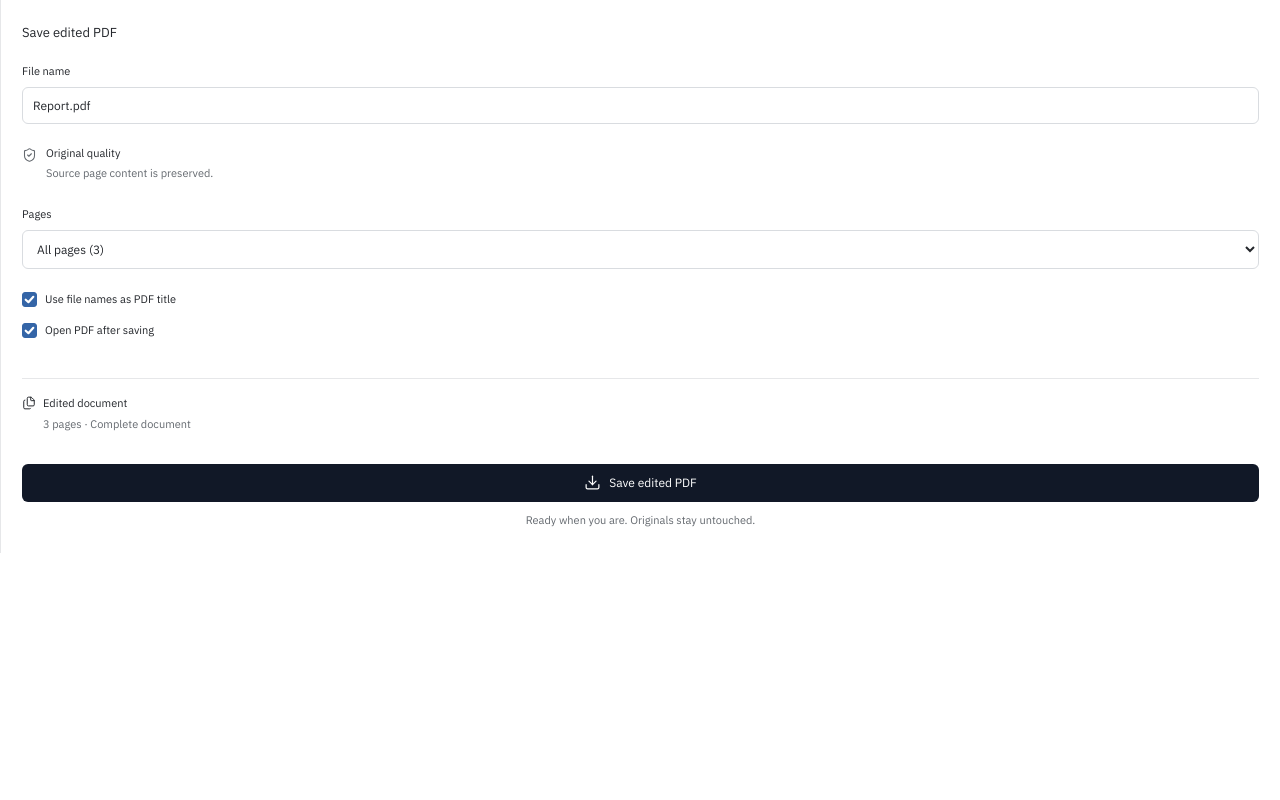
it: OutputInspector › Custom focuses the range input and validates it inline
The width and height of the screenshot is (1280, 800).
Select "Custom range…" in the dropdown labelled "Pages". click: (640, 249)
box: [22, 230, 1259, 269]
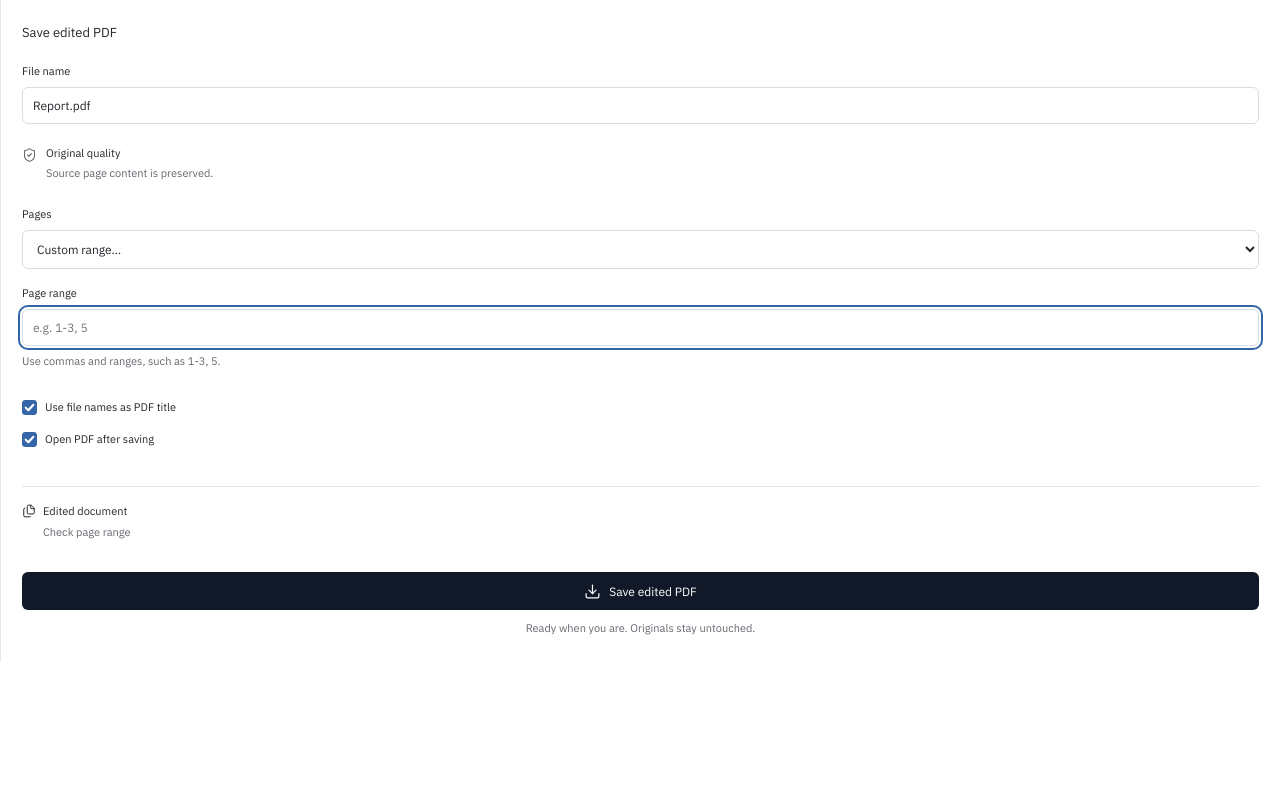
Expected: the text with id "export-summary" reads "Check page range", [43, 526, 131, 540]
Type "2-9" into the field labelled "Page range Use commas and ranges, such as 1-3, 5.". click: (640, 327)
box: [22, 309, 1259, 346]
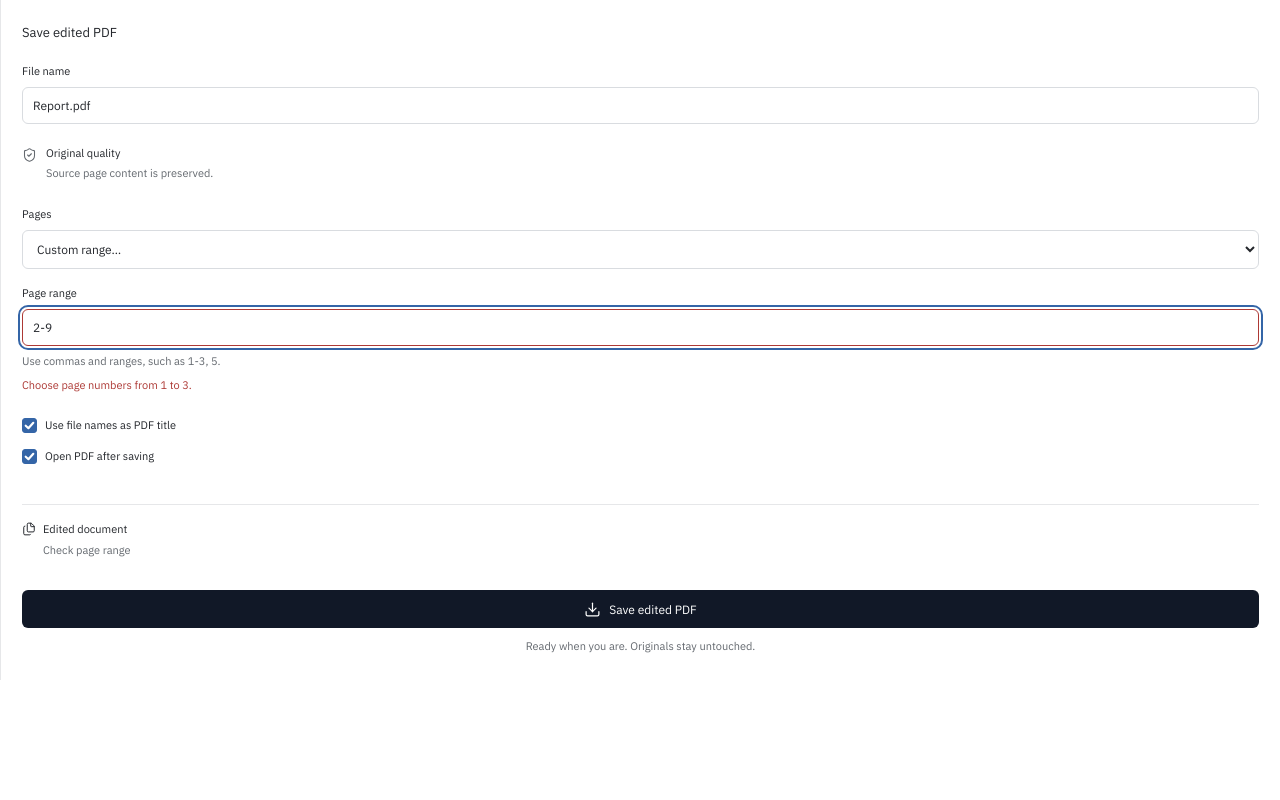
Expected: the text with id "export-summary" reads "Check page range", [43, 543, 131, 557]
Expected: the message reads "Choose page numbers from 1 to 3.", [22, 378, 192, 392]
Replace the text in the field labelled "Page range" with "1, 3". click: (640, 327)
box: [22, 309, 1259, 346]
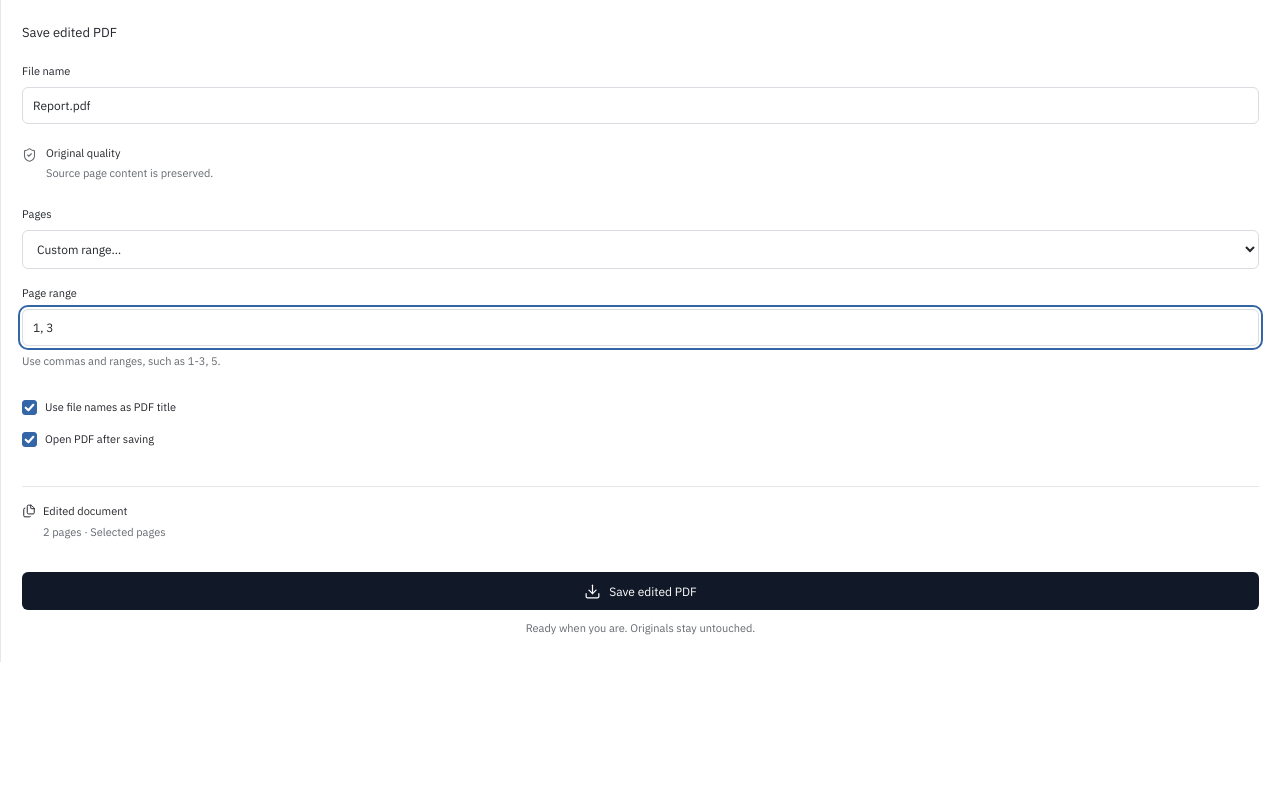
Expected: the text with id "export-summary" reads "2 pages · Selected pages", [43, 526, 166, 540]
